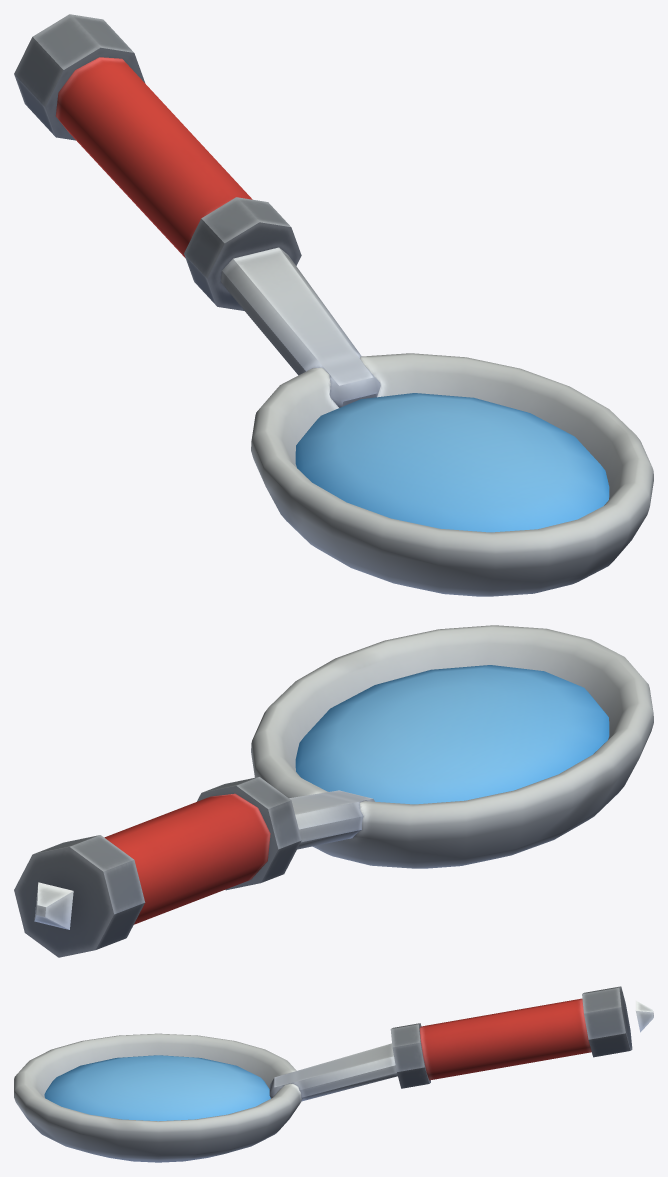
File: Spoon.glb
3 views of the same model, one above another, from view 1: azimuth 30°, elevation 25°; view 2: azimuth 150°, elevation 25°; view 3: azimuth 270°, elevation 25° (orthographic). The views are drawn at different scales.
Parts seen in each view (by area): view 1: Spoon, Spoon_Water; view 2: Spoon, Spoon_Water; view 3: Spoon, Spoon_Water.
Part boxes in pixels (<box>): Spoon: <box>14,14,653,596</box>; Spoon_Water: <box>295,393,609,532</box>; Spoon: <box>14,625,653,957</box>; Spoon_Water: <box>295,665,609,804</box>; Spoon: <box>14,986,653,1162</box>; Spoon_Water: <box>44,1055,270,1121</box>.
Size of the model in its own units: 0.421 by 0.3066 by 1.2.
1 material, 1 textured.
